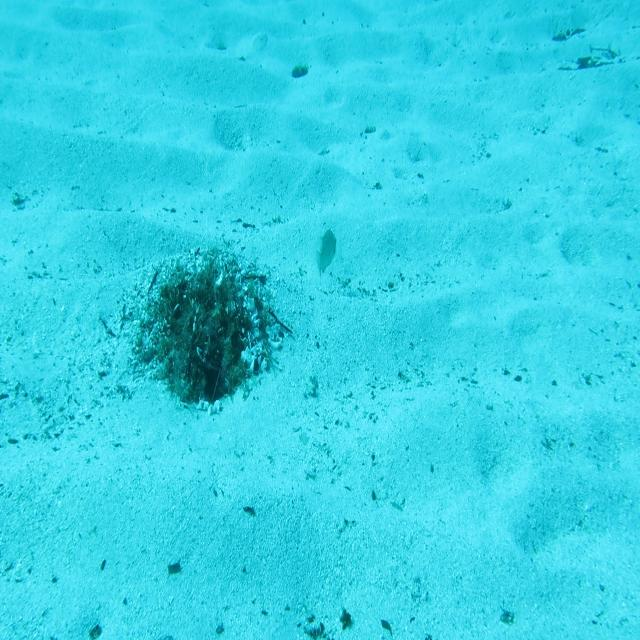MAN: (316, 220, 340, 281)
core_nest: (188, 282, 232, 315)
nest: (138, 237, 288, 408)
